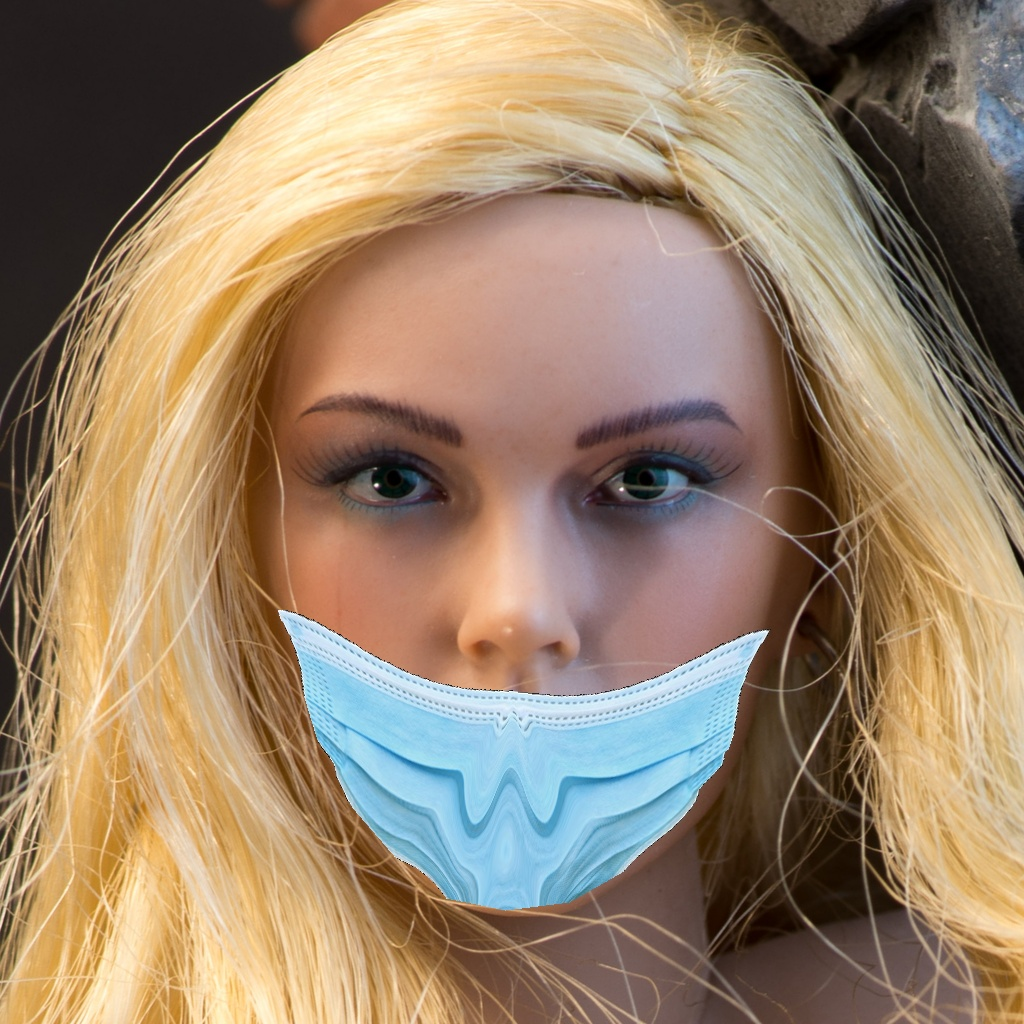mascarilla_mal_puesta: (282, 360, 827, 925)
